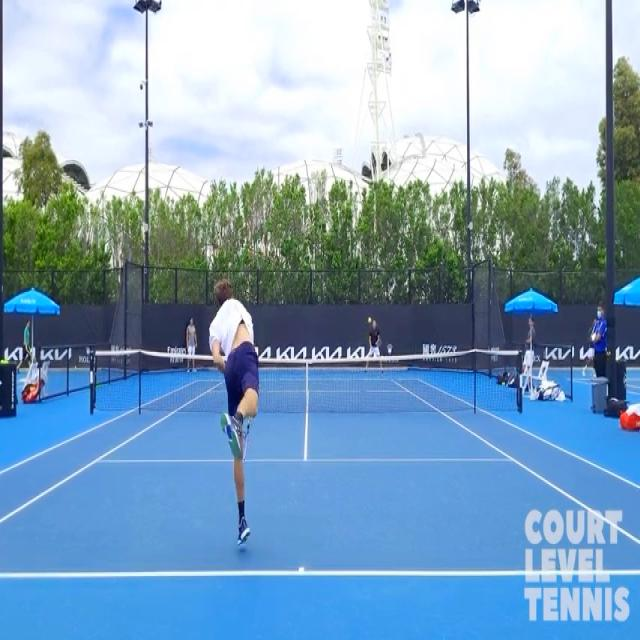serve_followthrough: (188, 245, 280, 561)
